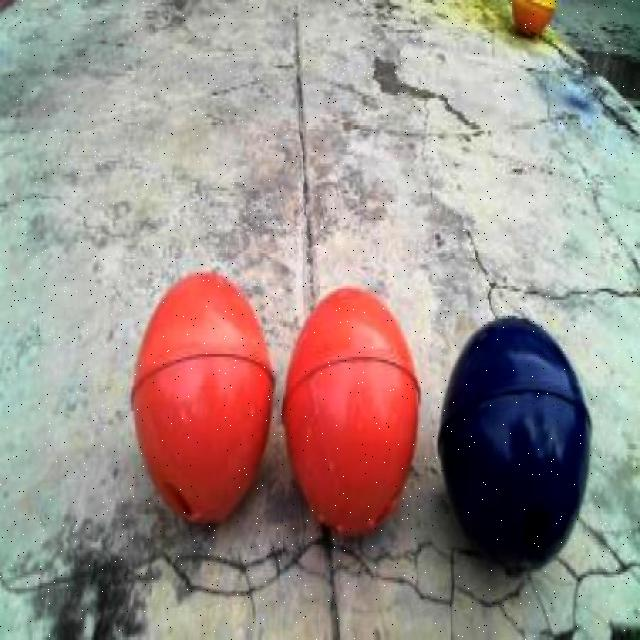buoy: (422, 294, 602, 591), (118, 243, 290, 549), (270, 262, 434, 563), (496, 0, 560, 48)
